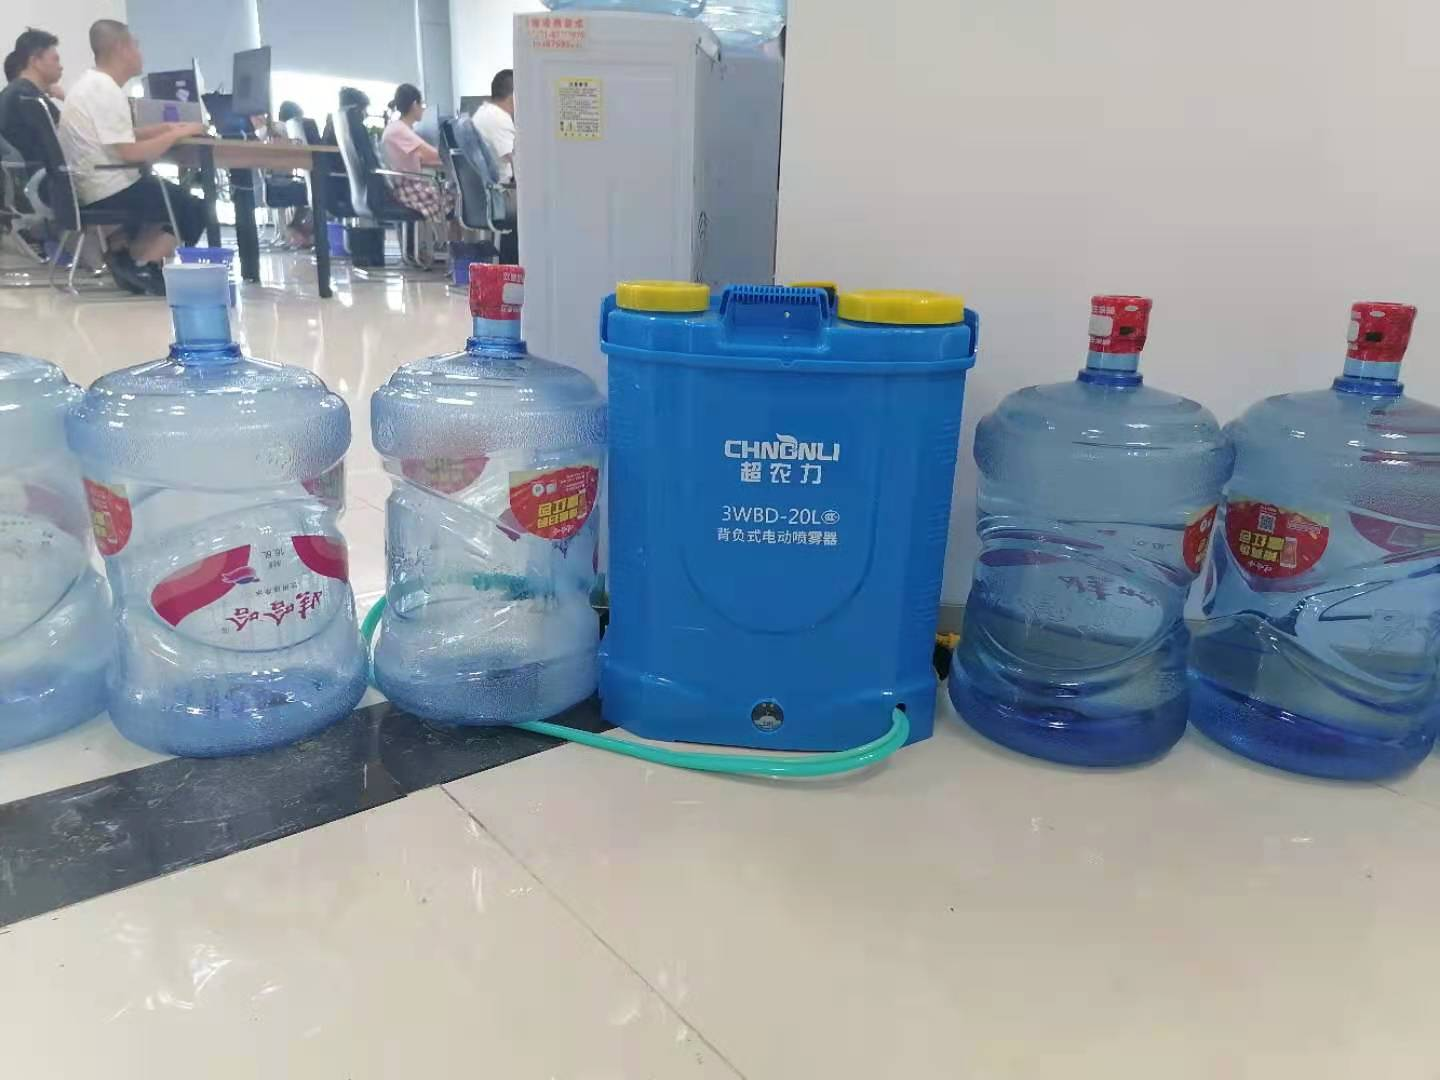berrl: (594, 279, 981, 767)
